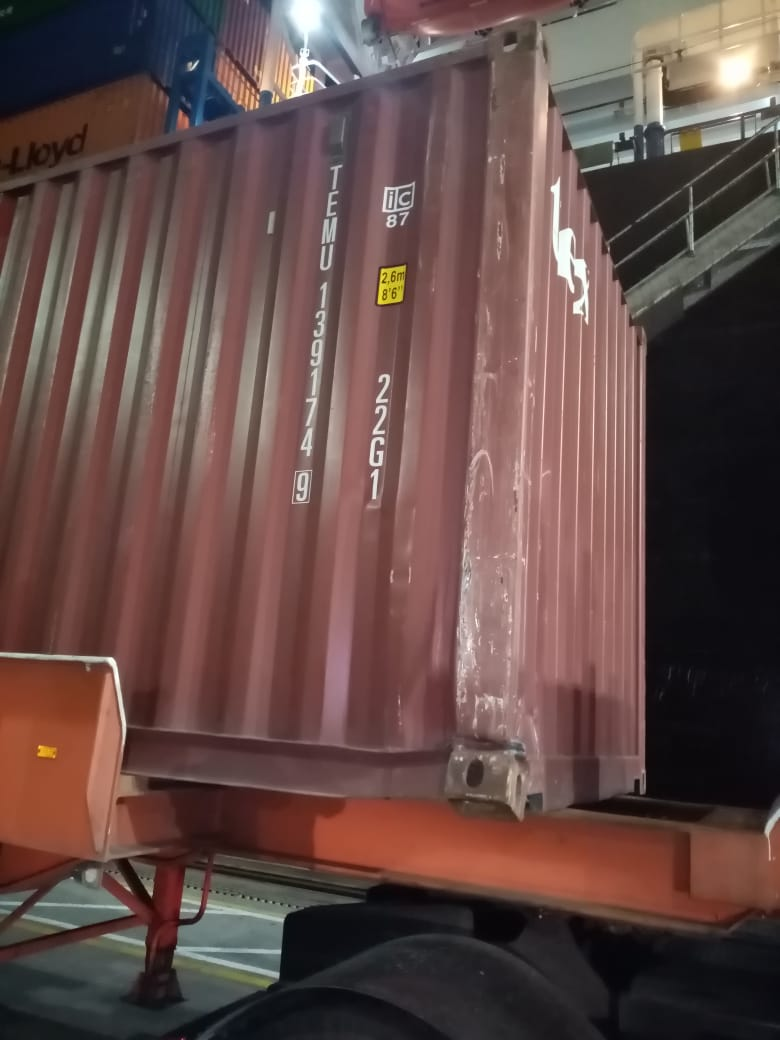dented: (414, 619, 563, 787)
